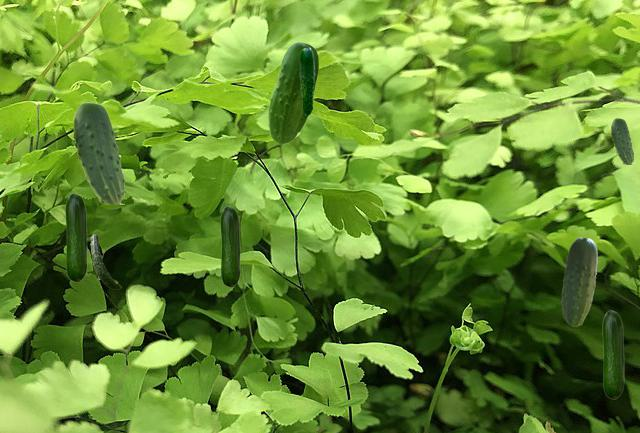cucumber: (73, 102, 123, 203), (268, 42, 317, 143), (561, 237, 596, 325), (602, 310, 623, 398), (65, 193, 86, 281), (90, 234, 120, 288), (220, 206, 239, 286), (299, 47, 314, 114), (611, 118, 632, 163)
